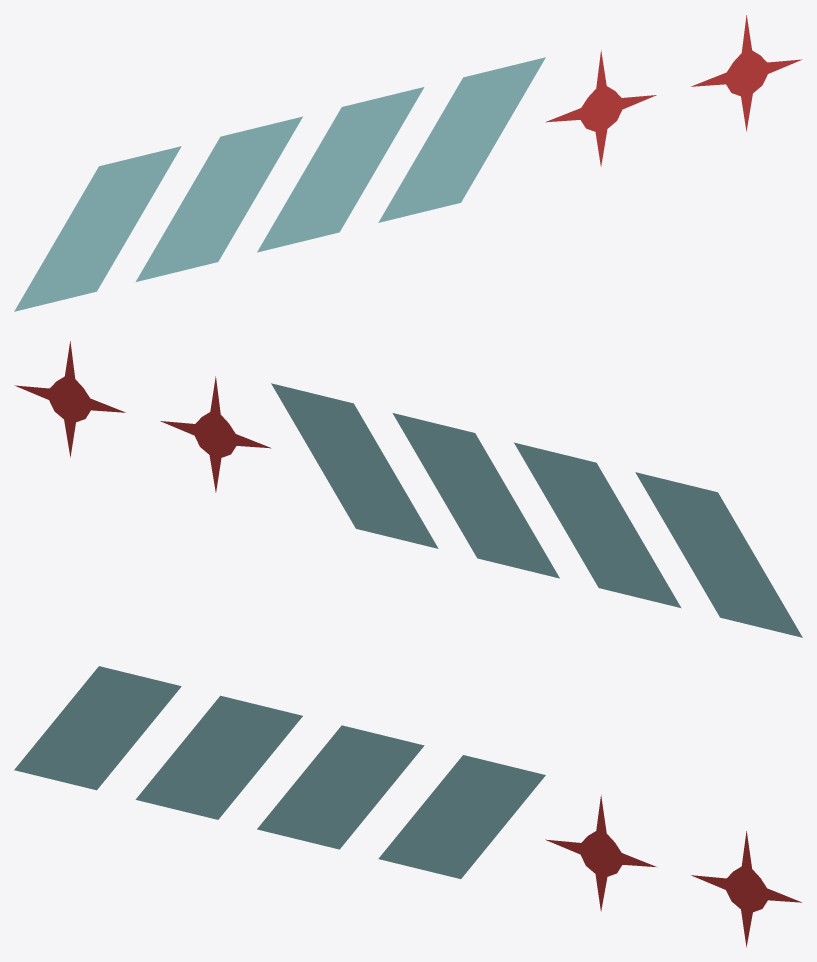
The model's file is hud.glb.
3 views of the same model, one above another, from view 1: azimuth 30°, elevation 25°; view 2: azimuth 150°, elevation 25°; view 3: azimuth 330°, elevation 25° (orthographic).
Parts seen in each view (by area): view 1: hp3, hp1, hp2, hp4, ap1, ap2; view 2: hp3, hp1, hp2, hp4, ap1, ap2; view 3: hp3, hp1, hp2, hp4, ap1, ap2.
Boxes of the visible parts, bbox=[...] form: hp3: bbox=[257, 87, 424, 252]; hp1: bbox=[14, 146, 181, 311]; hp2: bbox=[135, 116, 302, 282]; hp4: bbox=[378, 57, 545, 222]; ap1: bbox=[545, 50, 656, 166]; ap2: bbox=[691, 15, 802, 131]; hp3: bbox=[392, 413, 559, 578]; hp1: bbox=[635, 472, 802, 637]; hp2: bbox=[514, 442, 681, 608]; hp4: bbox=[271, 383, 438, 548]; ap1: bbox=[160, 376, 271, 492]; ap2: bbox=[14, 341, 125, 457]; hp3: bbox=[257, 725, 424, 849]; hp1: bbox=[14, 666, 181, 790]; hp2: bbox=[135, 695, 302, 819]; hp4: bbox=[378, 755, 545, 878]; ap1: bbox=[545, 795, 656, 911]; ap2: bbox=[691, 831, 801, 947].
Size of the model in its own units: 1.3 by 0.1966 by 0.
